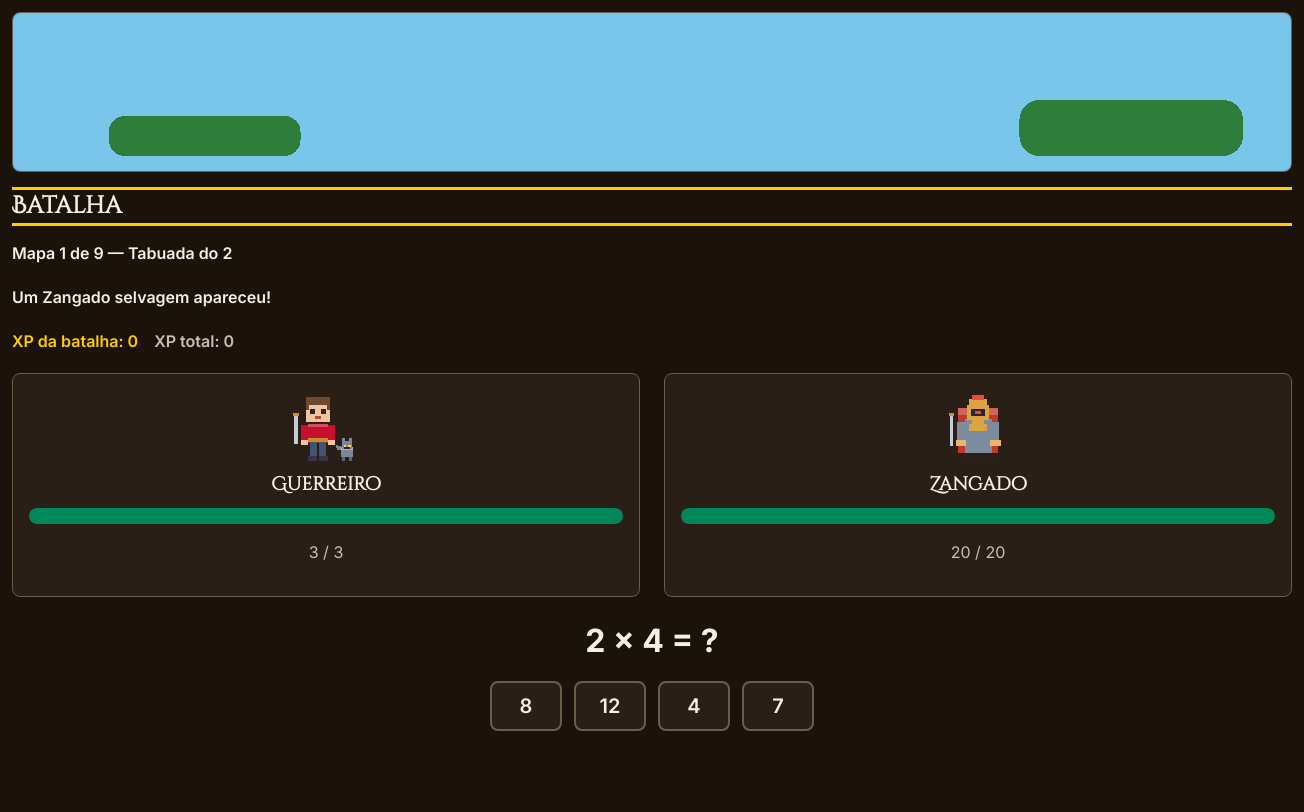
it: BattleScreen › três acertos acumulam XP e não mostram super ataque
Click the button "8" at [526, 706], box [490,681,562,731]
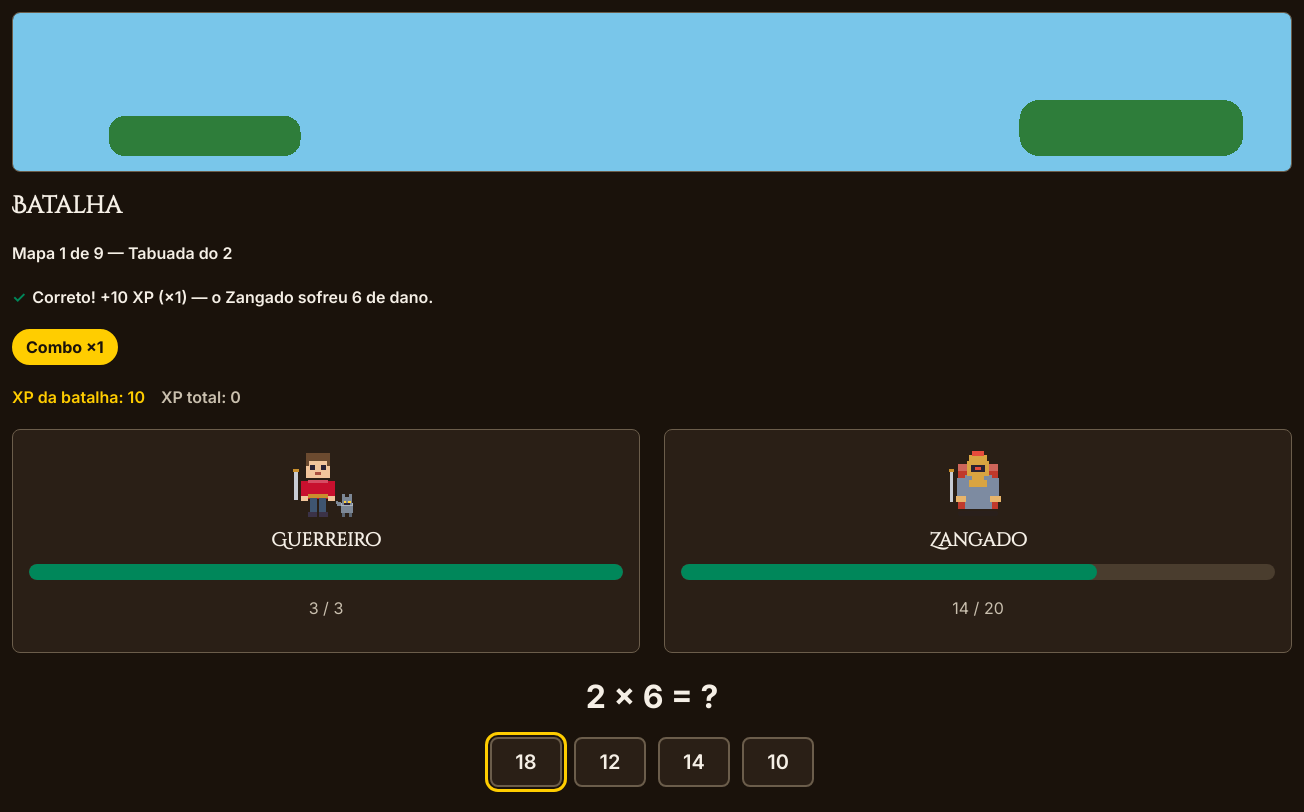
Click the button "12" at [610, 762], box [574,737,646,787]
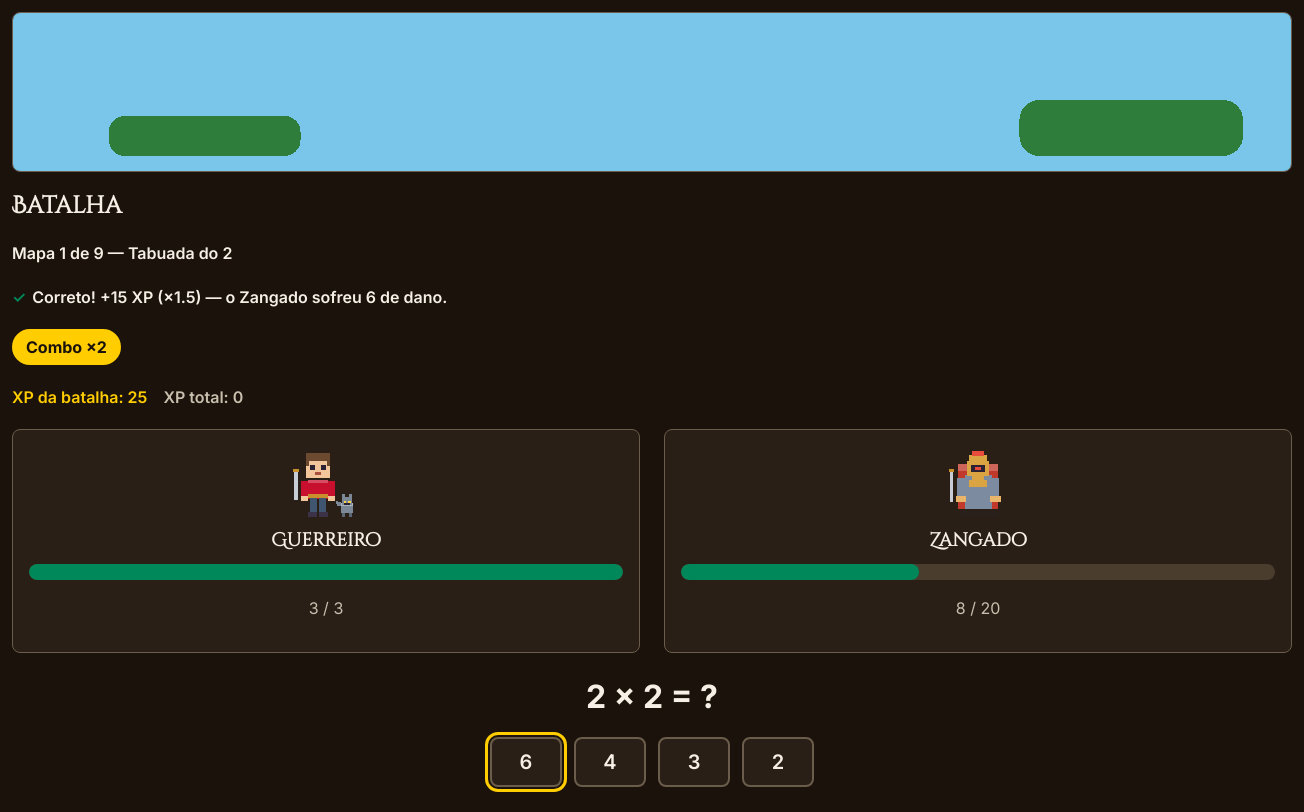
Click the button "4" at [610, 762], box [574,737,646,787]
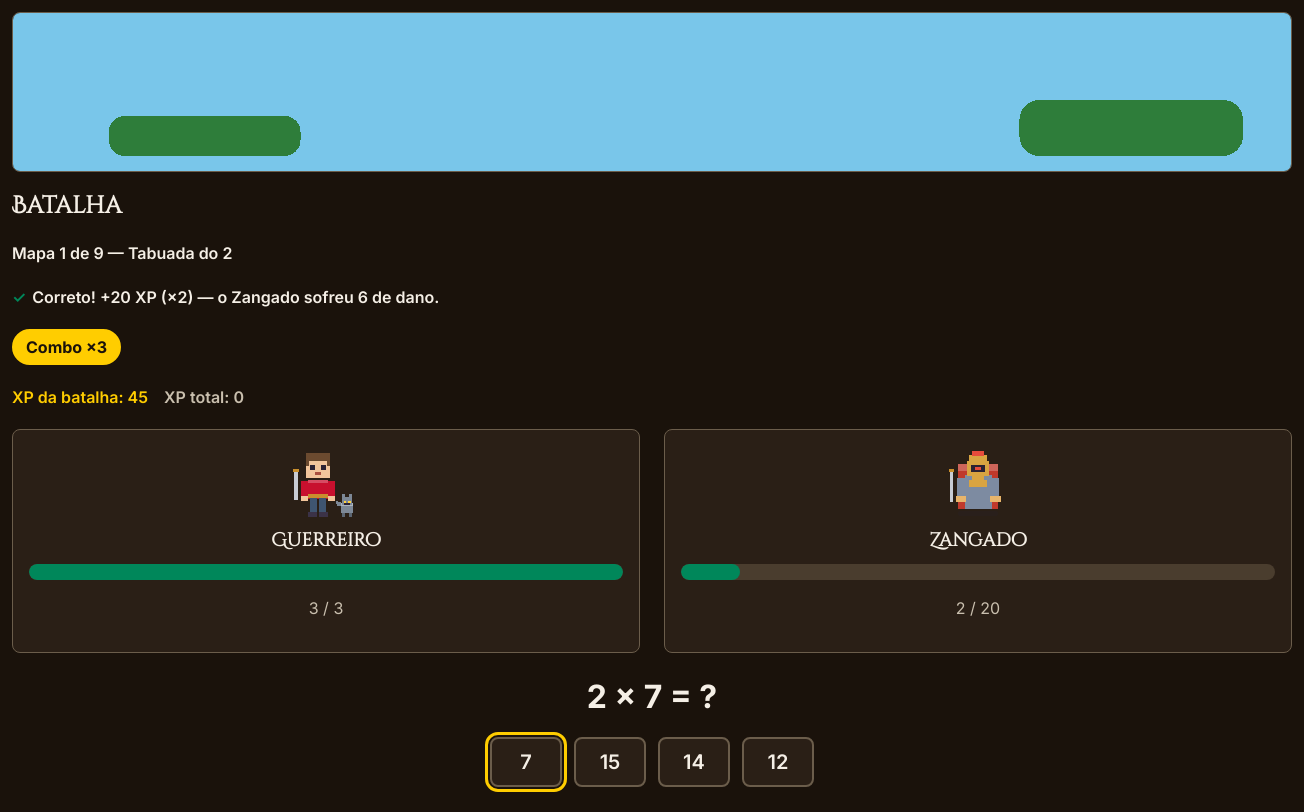
Result: the text "Combo ×3" is shown at [12,329,121,365]
Result: the text "XP da batalha: 45" is shown at [12,385,148,409]
